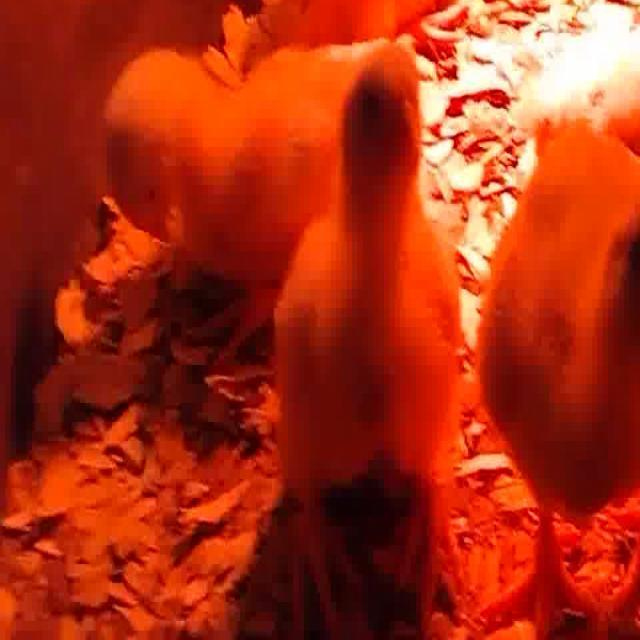poussin: (280, 47, 474, 638), (478, 112, 640, 640), (93, 47, 350, 339)
